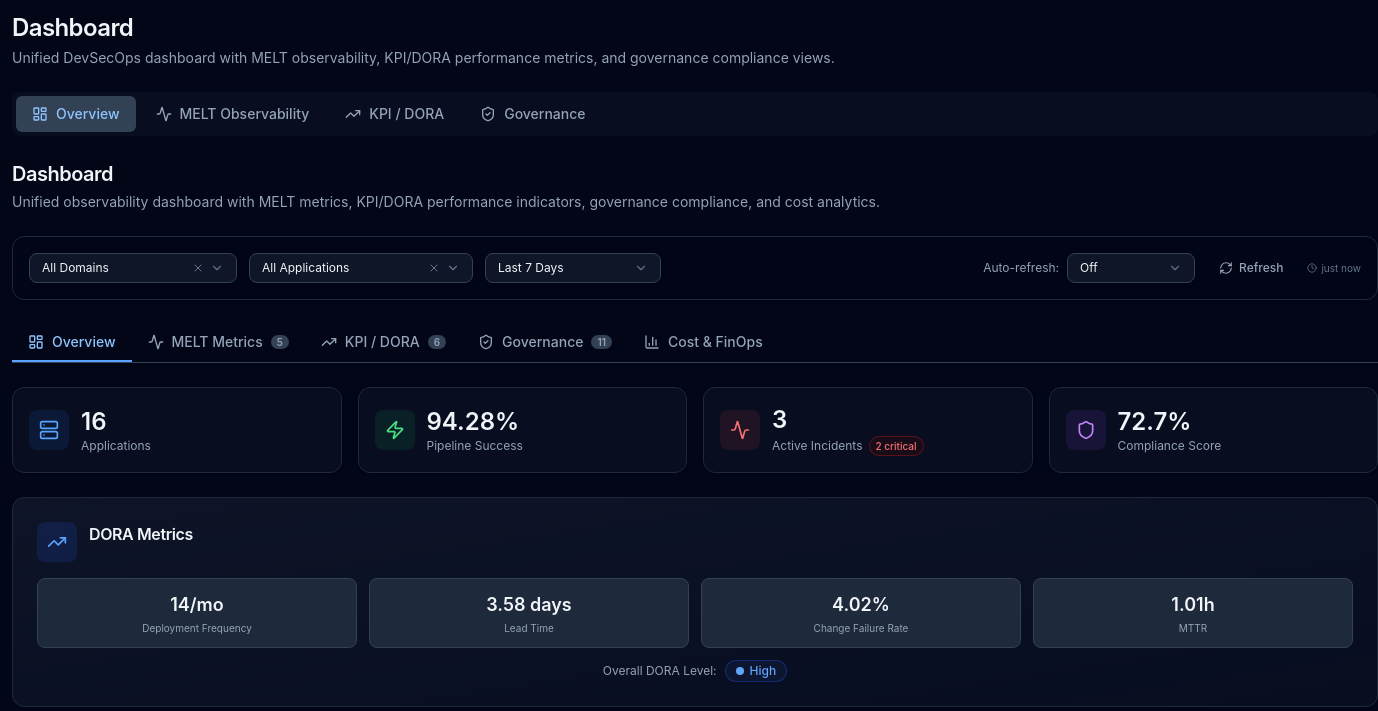
Scenario: DashboardPage MELT tab content › renders MELT Dashboard heading after switching to MELT tab
Click the tab "MELT Observability" at (232, 114), box [140,96,325,132]
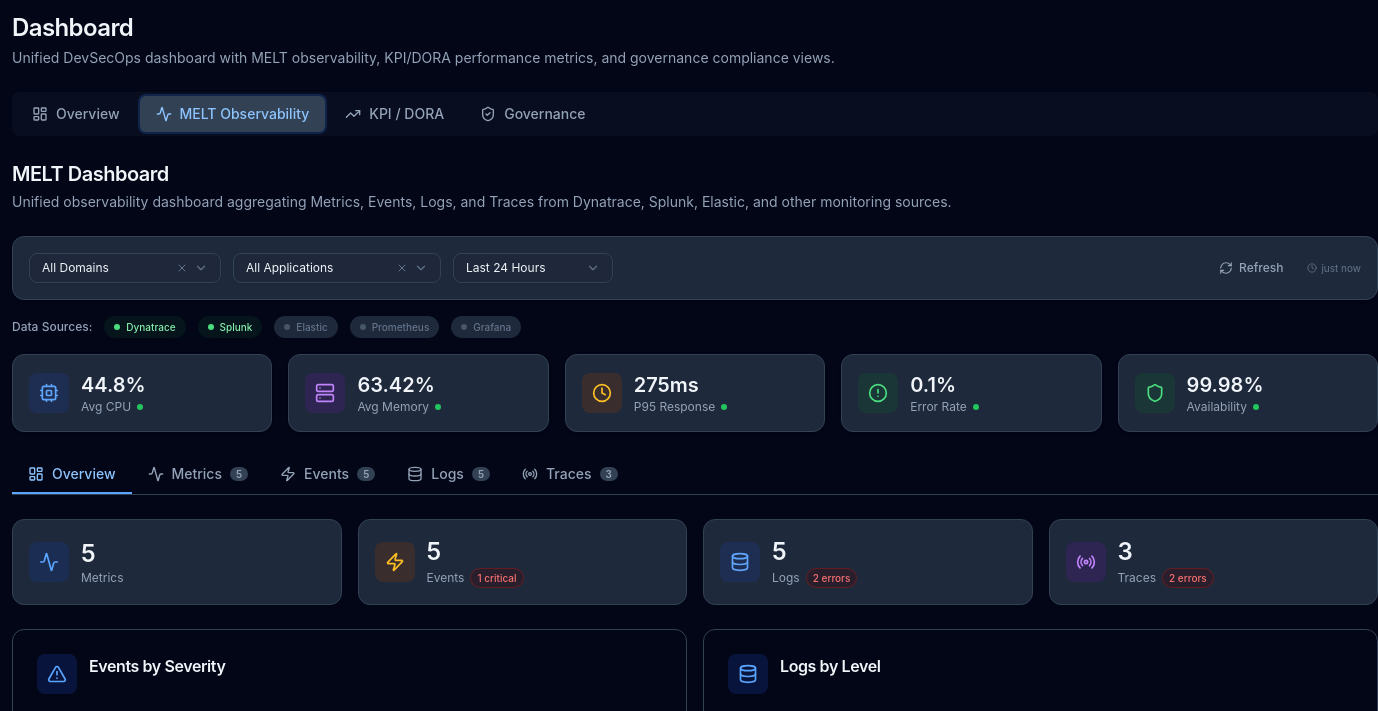
Result: the heading "MELT Dashboard" is shown at [12,162,169,186]
